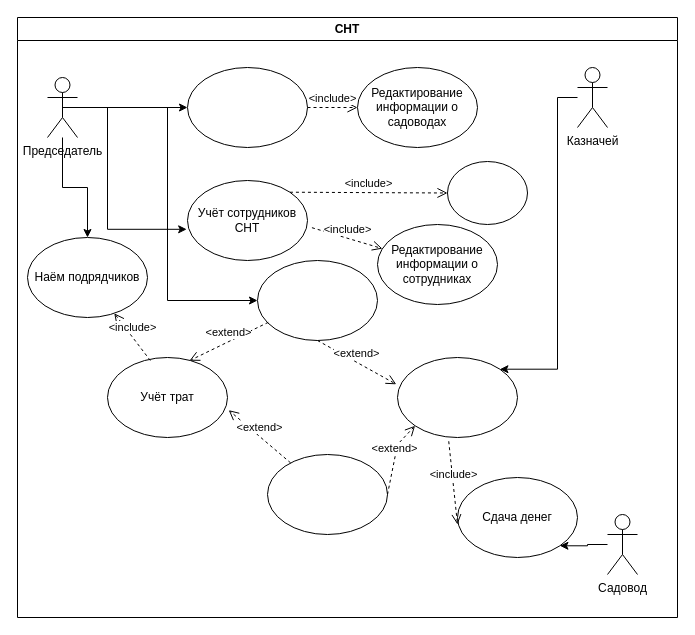
The diagram is 695 pixels wide and 635 high, and some of its shapes have lost their labels. Each missing label, with the centre of its shape:
"Выплата зарплаты" goes at (x=487, y=192).
"Сбор оплат" goes at (x=457, y=397).
"Создание ведомости" goes at (x=327, y=494).
"Учёт садоводов" goes at (x=247, y=107).
"Учёт собраний" goes at (x=317, y=300).
